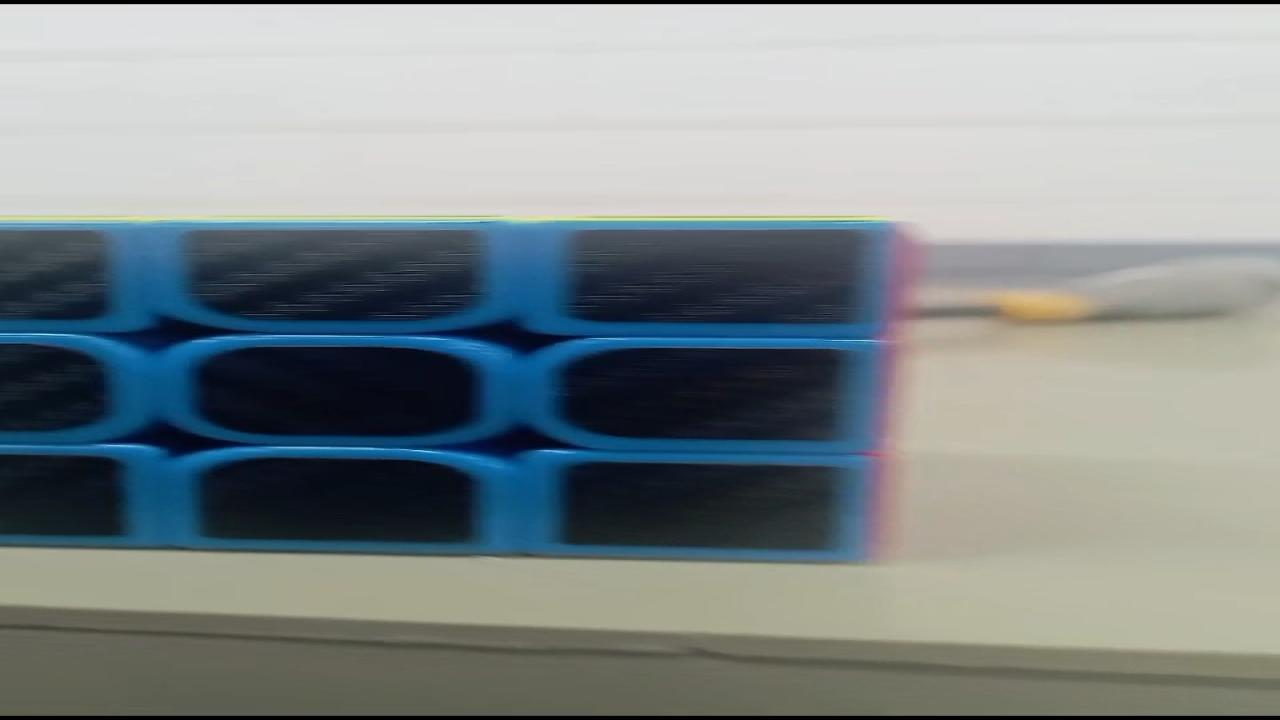Cube: (2, 214, 922, 564)
